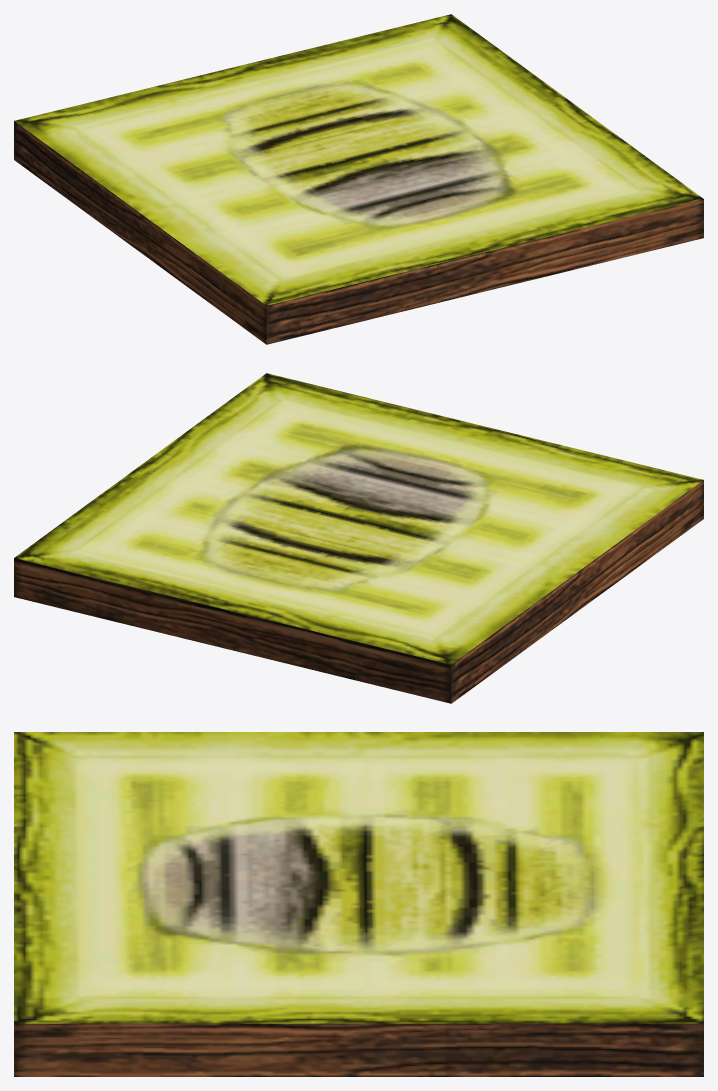
Rendered from INST_LT_PPLATEMED_ON.fbx.
3 renders of one model, top to bottom at view 1: azimuth 30°, elevation 25°; view 2: azimuth 150°, elevation 25°; view 3: azimuth 270°, elevation 25°, orthographic. The views are drawn at different scales.
Parts seen in each view (by area): view 1: INST_LT_PPLATEMED_ON; view 2: INST_LT_PPLATEMED_ON; view 3: INST_LT_PPLATEMED_ON.
Part boxes in pixels (x1,y1,x2,y2): INST_LT_PPLATEMED_ON: (14, 14, 703, 344); INST_LT_PPLATEMED_ON: (14, 373, 703, 703); INST_LT_PPLATEMED_ON: (14, 732, 703, 1076).
Size of the model in its own units: 20000 by 1705 by 20000.
Materials: 2 (2 with a texture image).
